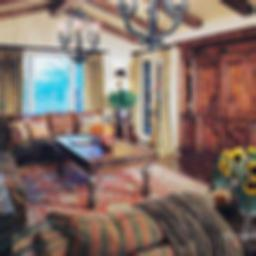Matera: (104, 90, 135, 124)
Puerta: (134, 51, 165, 142)
